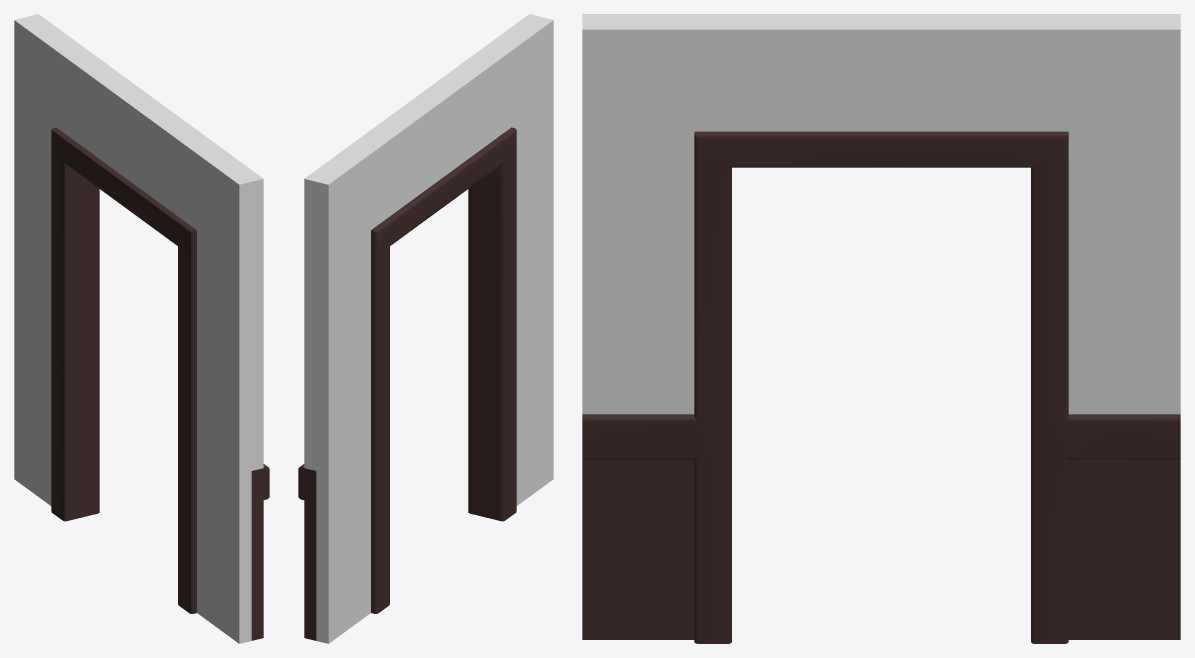
File: HallwayDoorway.fbx
3 views of the same model, side by side, from view 1: azimuth 30°, elevation 25°; view 2: azimuth 150°, elevation 25°; view 3: azimuth 270°, elevation 25° (orthographic). The views are drawn at different scales.
Visible parts, largest first — view 1: HallwayDoorway; view 2: HallwayDoorway; view 3: HallwayDoorway.
Part boxes in pixels (x1,y1,x2,y2): HallwayDoorway: (14,14,269,643); HallwayDoorway: (298,14,553,643); HallwayDoorway: (582,14,1180,643).
Bounding box in the file's own units: 22.86 × 274 × 244.
